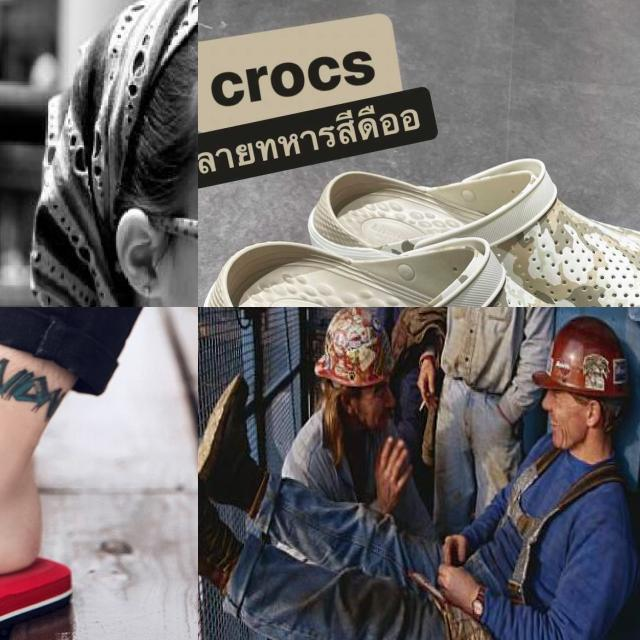Harness: (502, 449, 624, 606)
No_Ear-Protection: (113, 206, 173, 303)
Sandals: (198, 137, 640, 307)
glasses: (110, 176, 198, 305)
head_nohelmet: (69, 0, 198, 144)
